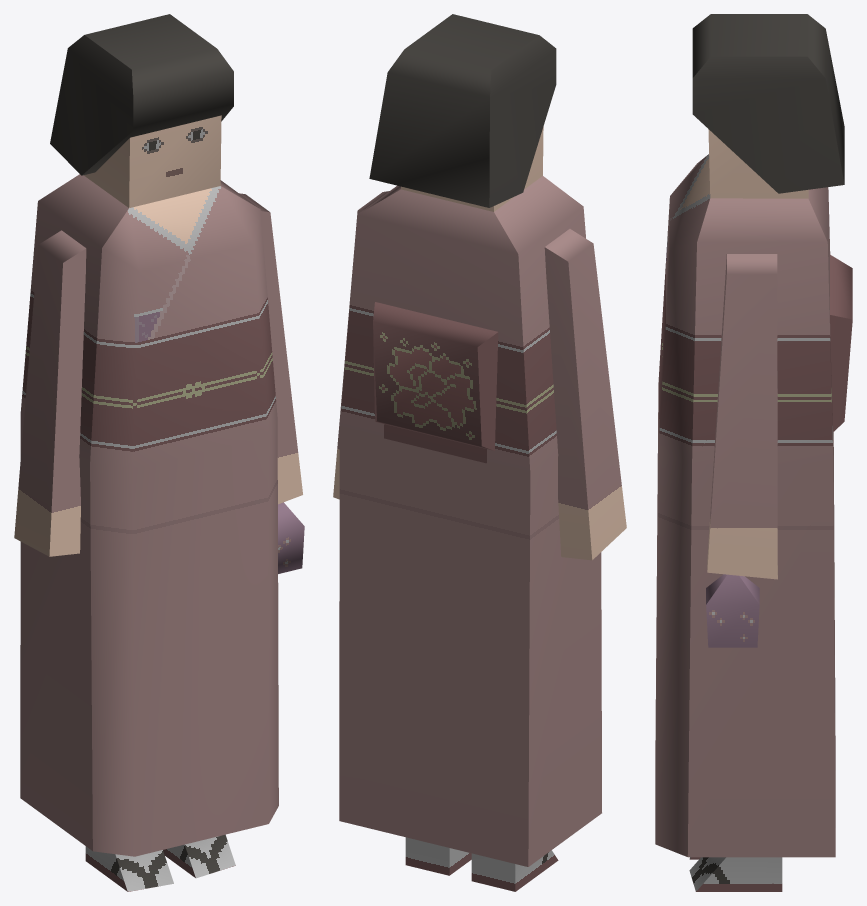
File: 0259_Mama-san.glb
3 renders of one model, left to right at view 1: azimuth 30°, elevation 25°; view 2: azimuth 150°, elevation 25°; view 3: azimuth 270°, elevation 25°, orthographic.
Parts seen in each view (by area): view 1: part_0; view 2: part_0; view 3: part_0.
Part boxes in pixels (<box>): part_0: <box>14,14,304,891</box>; part_0: <box>333,14,626,891</box>; part_0: <box>655,14,852,891</box>.
Bounding box in the file's own units: 0.5262 × 1.6 × 0.3462.
Materials: 1 (1 with a texture image).
